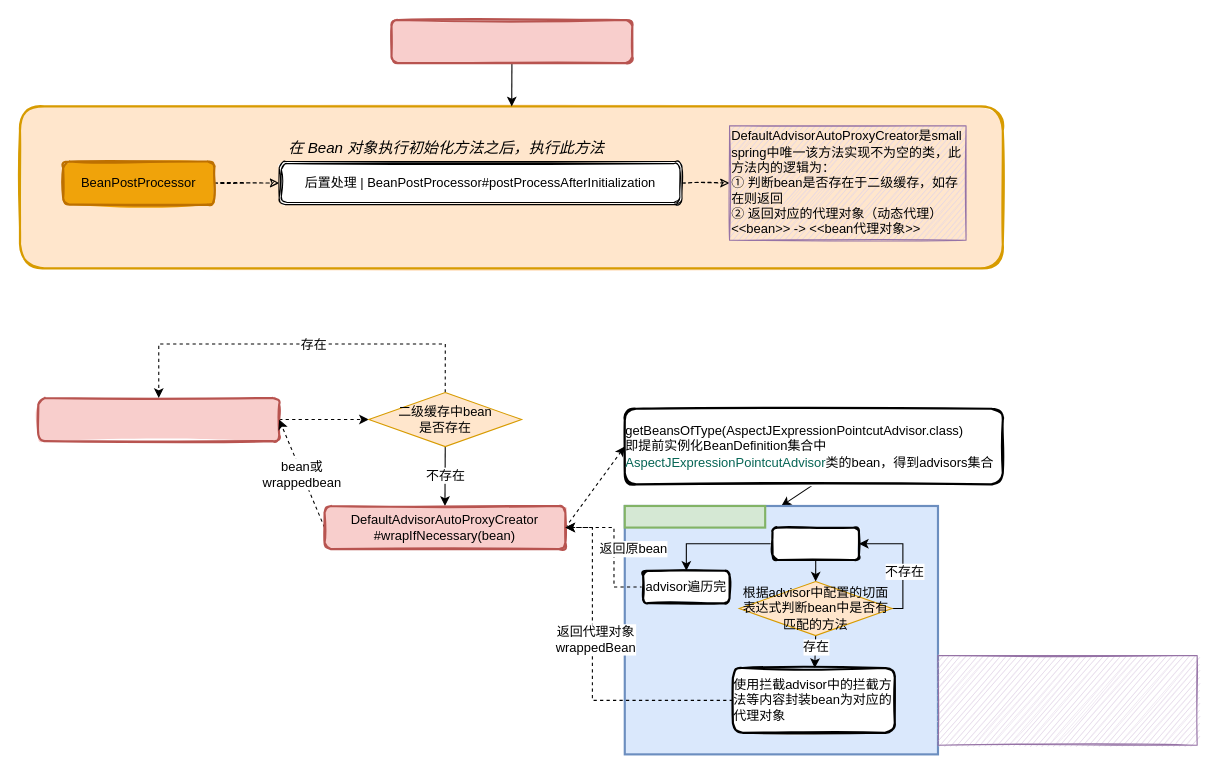
Some shapes in this 1216 by 773 pixel diagram are drawn without their labels. The centre of each missing label's shape, as x and y in pixels:
"DefaultAdvisorAutoProxyCreator # postProcessAfterInitialization" goes at (x=158, y=419).
"refresh中aop的相关部分" goes at (x=511, y=41).
"切面表达式匹配方法原理： 例如在invoke方法中会先使用切面表达式判断当前方法是否匹配，如果匹配则调用切面拦截方法，否则调用原方法" goes at (x=1067, y=699).
"取advisor" goes at (x=815, y=543).
"遍历advisor集合" goes at (x=694, y=516).
